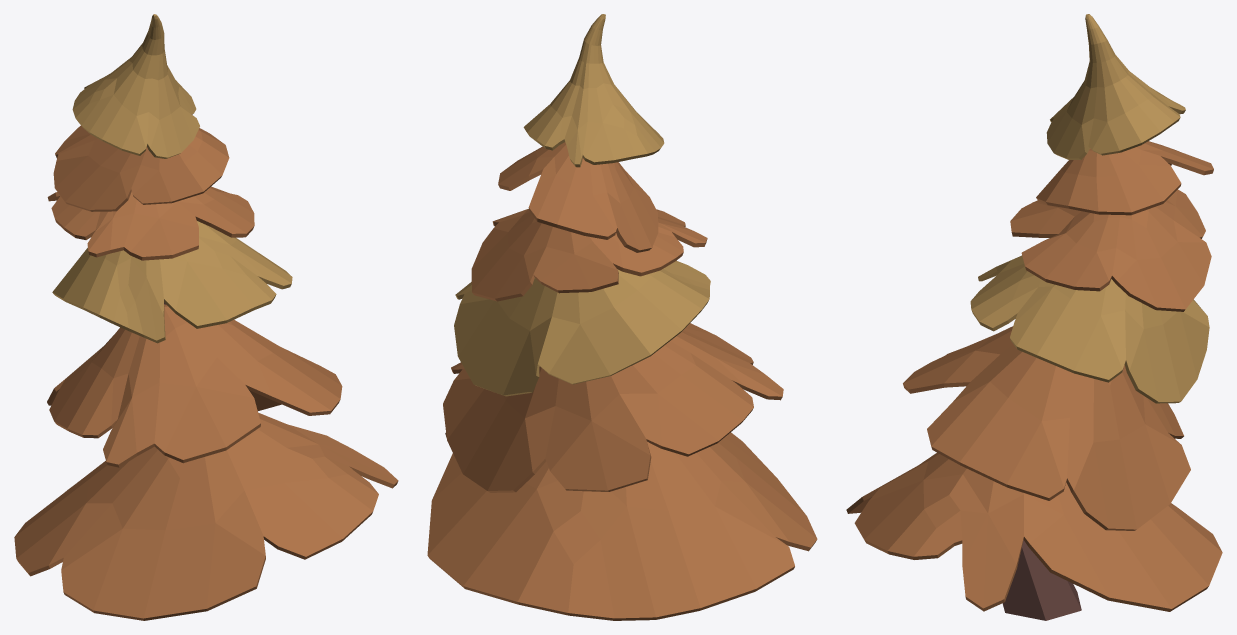
Rendered from PineTree_Autumn_3.gltf.
3 views of the same model, side by side, from view 1: azimuth 30°, elevation 25°; view 2: azimuth 150°, elevation 25°; view 3: azimuth 270°, elevation 25° (orthographic). The views are drawn at different scales.
Visible parts, largest first — view 1: PineTree_Autumn_3; view 2: PineTree_Autumn_3; view 3: PineTree_Autumn_3.
Boxes of the visible parts, left/top/right/bottom form: PineTree_Autumn_3: left=14, top=14, right=398, bottom=620; PineTree_Autumn_3: left=427, top=14, right=817, bottom=620; PineTree_Autumn_3: left=846, top=14, right=1222, bottom=620.
Size of the model in its own units: 2.16 by 3.3 by 1.95.
